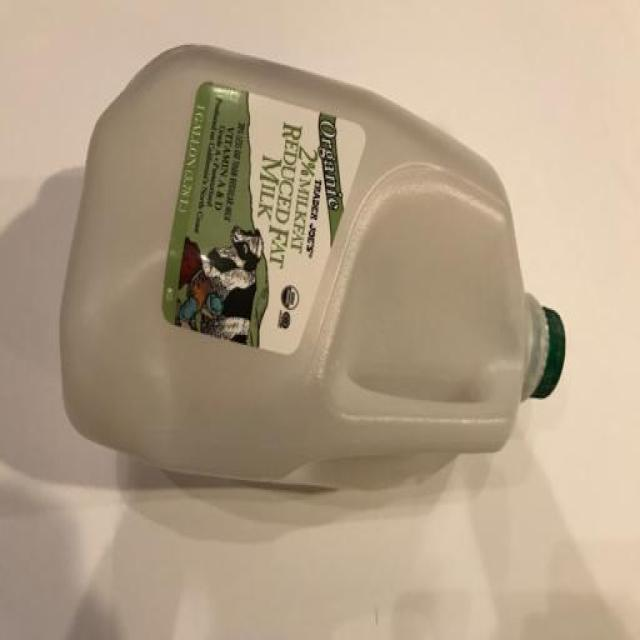plastic: (57, 41, 565, 486)
